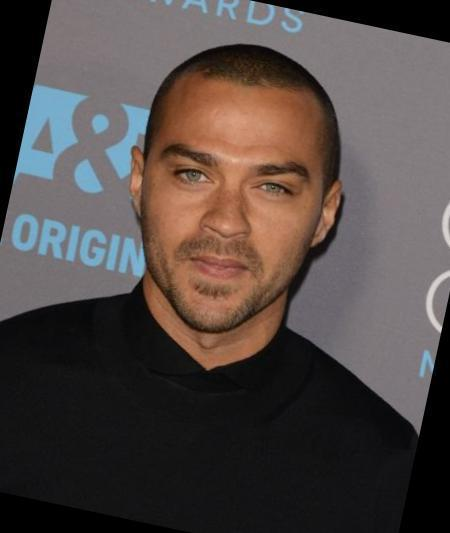Sober: (157, 85, 316, 323)
